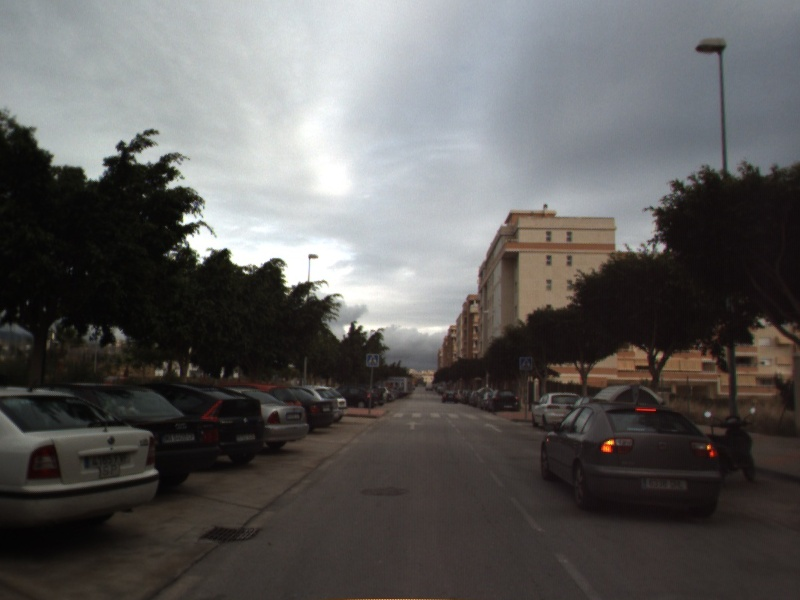STRAIGHT: (482, 421, 505, 434), (404, 419, 422, 431)
